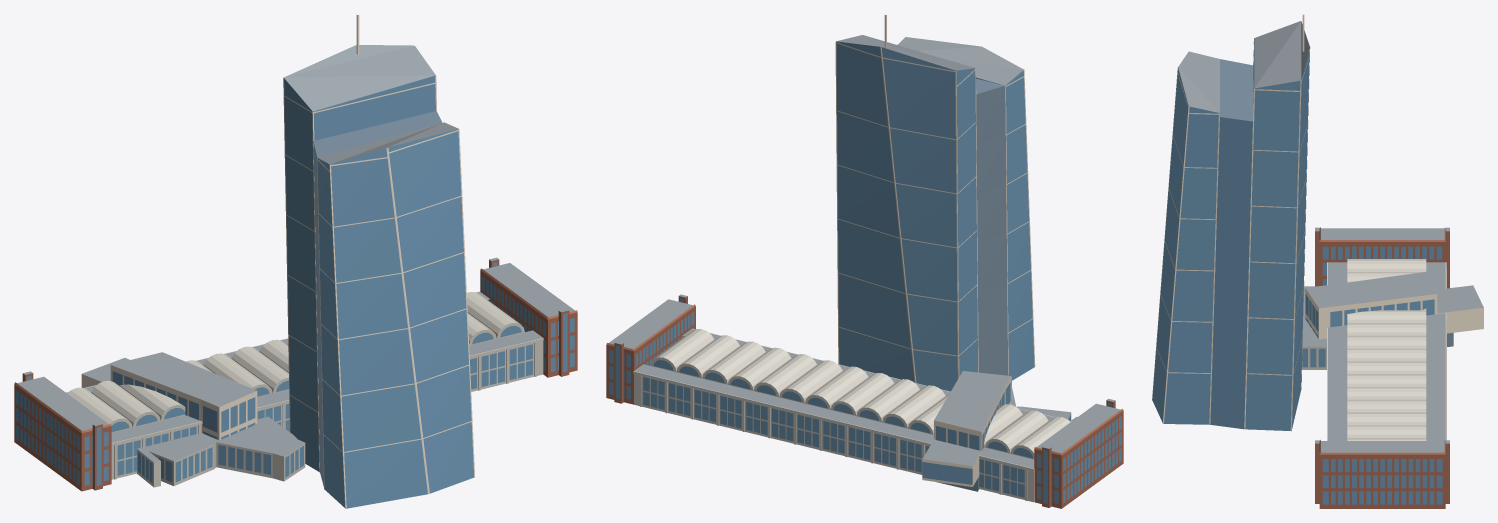
Rendered from frankfurt-ecb.glb.
3 views of the same model, side by side, from view 1: azimuth 30°, elevation 25°; view 2: azimuth 150°, elevation 25°; view 3: azimuth 270°, elevation 25° (orthographic). The views are drawn at different scales.
Visible parts, largest first — view 1: European Central Bank; view 2: European Central Bank; view 3: European Central Bank.
Boxes of the visible parts, left/top/right/bottom form: European Central Bank: left=14, top=15, right=577, bottom=508; European Central Bank: left=606, top=15, right=1123, bottom=508; European Central Bank: left=1152, top=14, right=1483, bottom=508.
Bounding box in the file's own units: 250 × 201 × 155.
